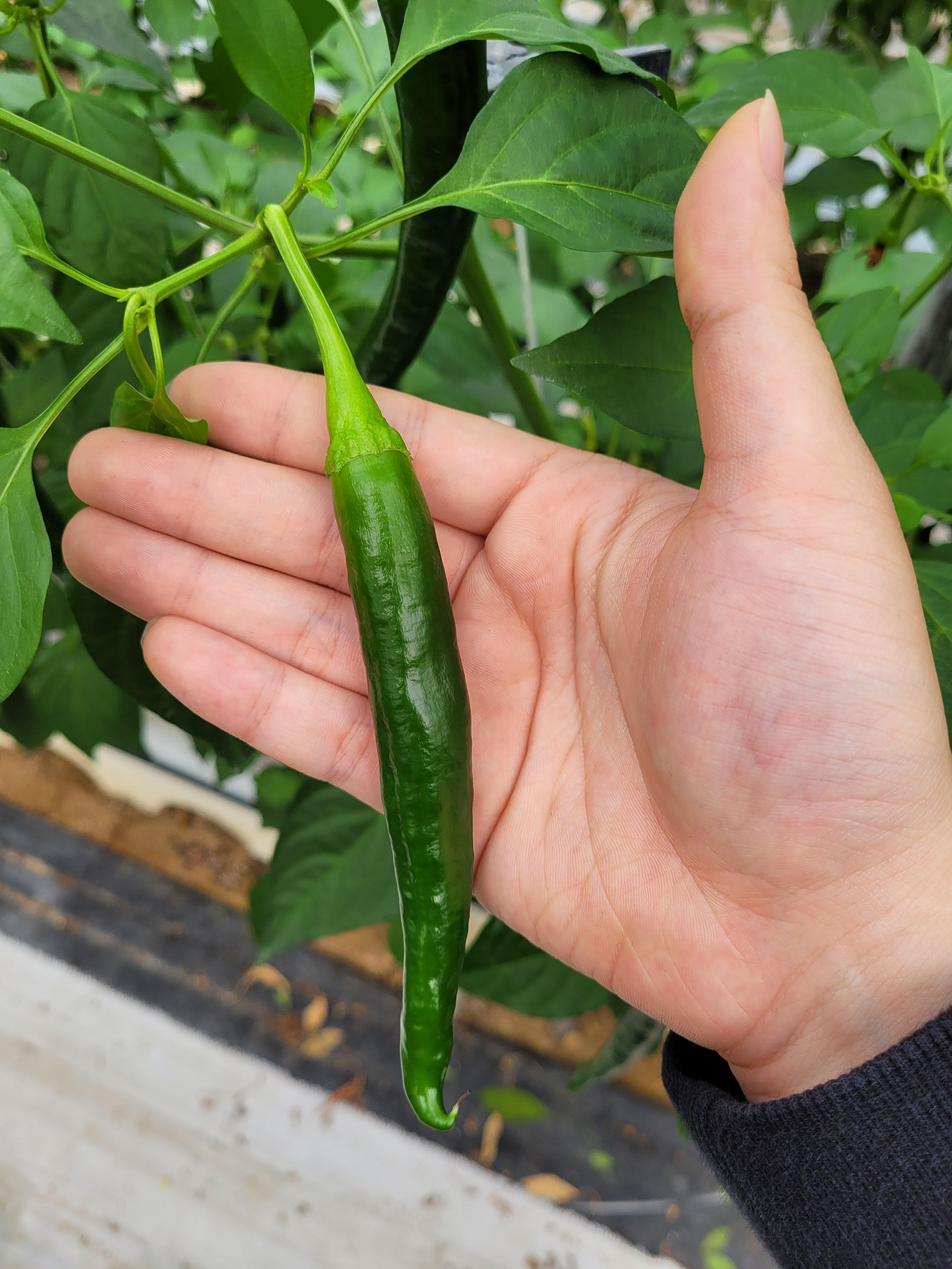Buah Cabai Sehat: (259, 381, 479, 1131)
